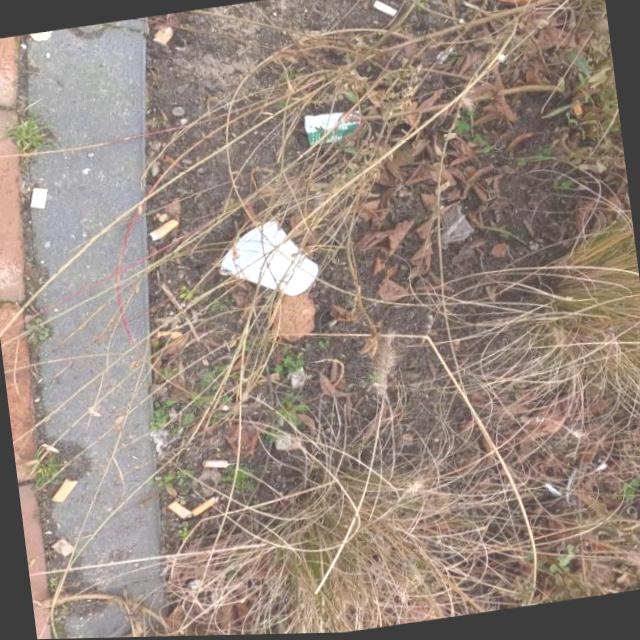Cup: (213, 214, 322, 306)
Paper: (285, 366, 307, 389)
Plastic: (304, 107, 362, 147)
